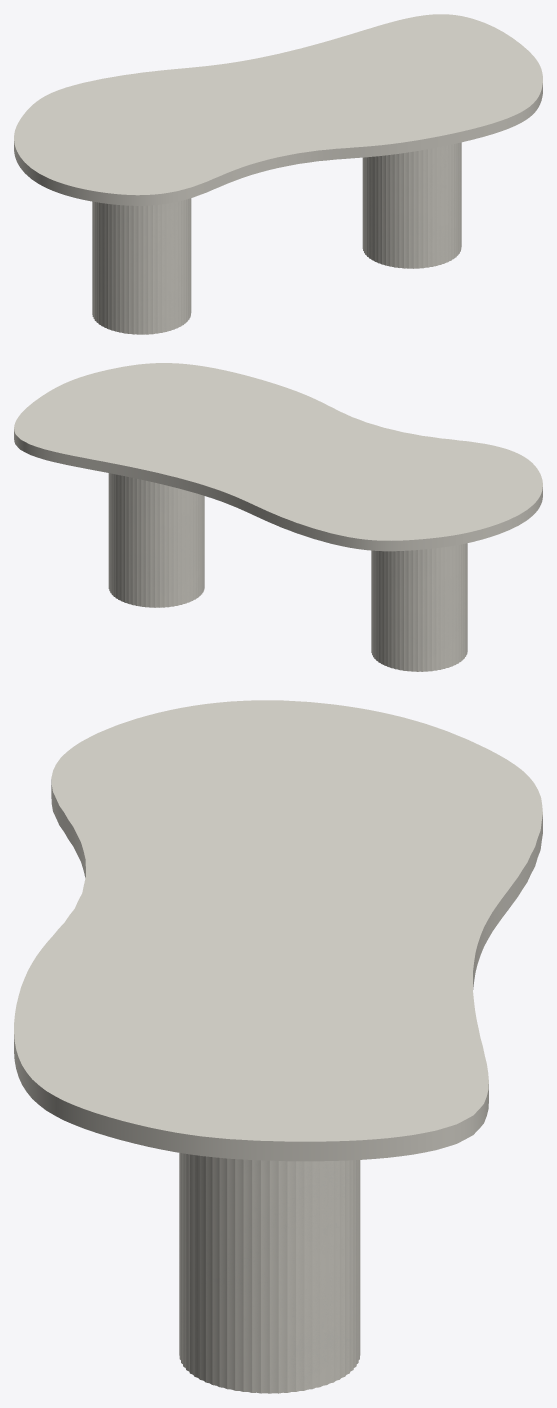
Rendered from pale_wave_standard_ripplesecond.glb.
The picture shows the model from 3 angles, top to bottom: view 1: azimuth 30°, elevation 25°; view 2: azimuth 150°, elevation 25°; view 3: azimuth 270°, elevation 25°; orthographic projection. The views are drawn at different scales.
Visible parts, largest first — view 1: standard_wave, ripplesecond; view 2: standard_wave, ripplesecond; view 3: standard_wave, ripplesecond.
Part boxes in pixels (box(x1,y1,x2,y2)): standard_wave: box(14, 14, 542, 205); ripplesecond: box(92, 142, 461, 334); standard_wave: box(14, 363, 542, 551); ripplesecond: box(108, 473, 467, 671); standard_wave: box(14, 700, 542, 1161); ripplesecond: box(179, 1153, 360, 1393).
Bounding box in the file's own units: 7.5 × 2.5 × 3.8.
1 material, 1 textured.
